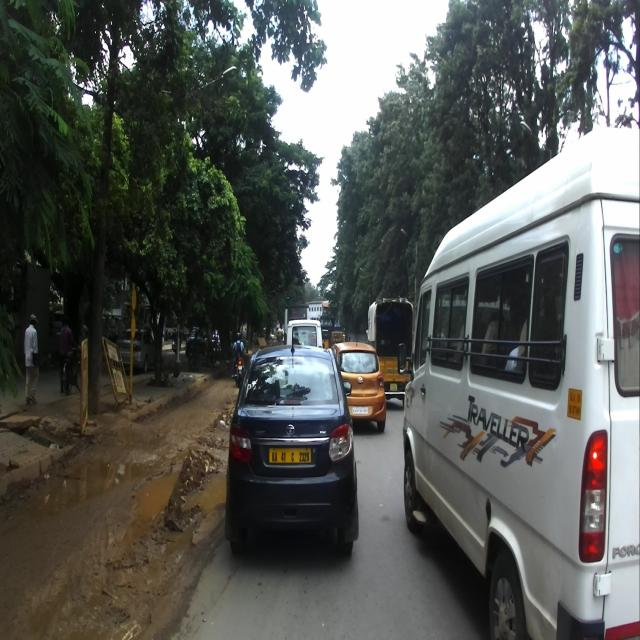Car_Hyundai: (331, 340, 385, 430)
Car_TATA: (225, 337, 358, 559)
mini-bus: (396, 130, 640, 639)
